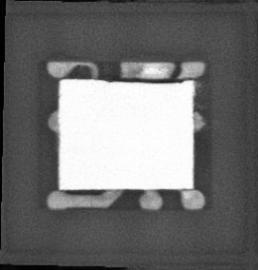DIE_BROKEN: (102, 76, 187, 84)
